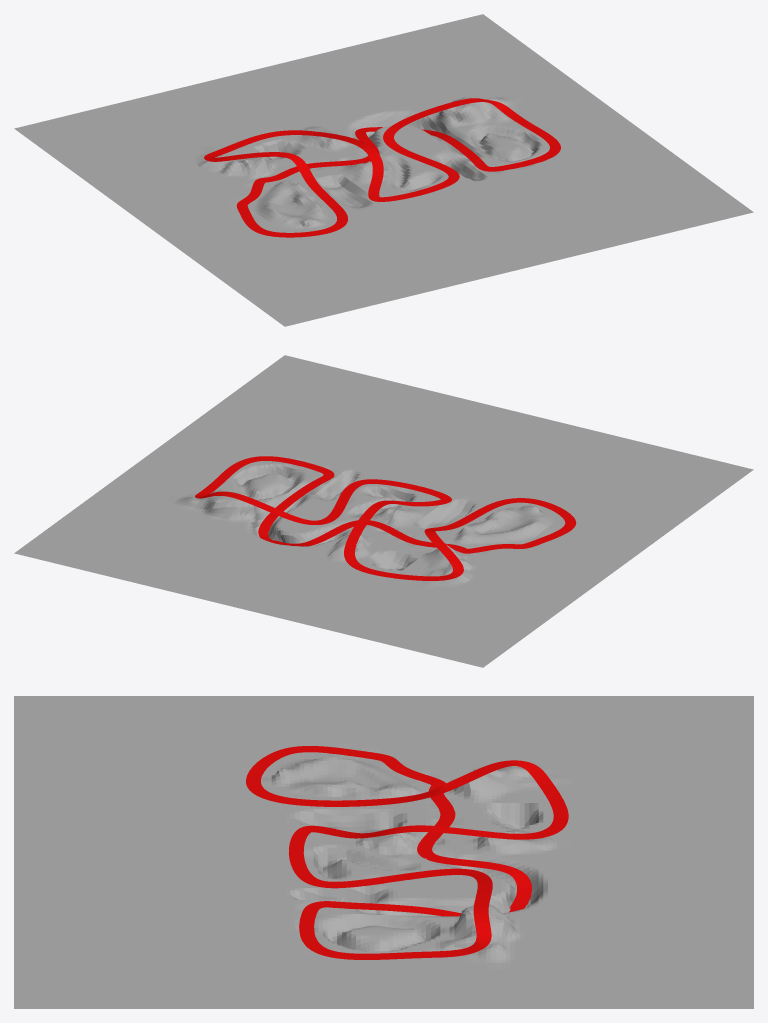
The model's file is Track.fbx.
3 renders of one model, top to bottom at view 1: azimuth 30°, elevation 25°; view 2: azimuth 150°, elevation 25°; view 3: azimuth 270°, elevation 25°, orthographic. The views are drawn at different scales.
Parts seen in each view (by area): view 1: Ground, Road; view 2: Ground, Road; view 3: Ground, Road.
Part boxes in pixels (x1=…): Ground: x1=14, y1=14, x2=753, y2=326; Road: x1=204, y1=98, x2=560, y2=237; Ground: x1=14, y1=355, x2=753, y2=667; Road: x1=195, y1=456, x2=576, y2=580; Ground: x1=14, y1=696, x2=753, y2=1008; Road: x1=246, y1=746, x2=568, y2=959.
Bounding box in the file's own units: 49.38 × 3.23 × 49.38.
